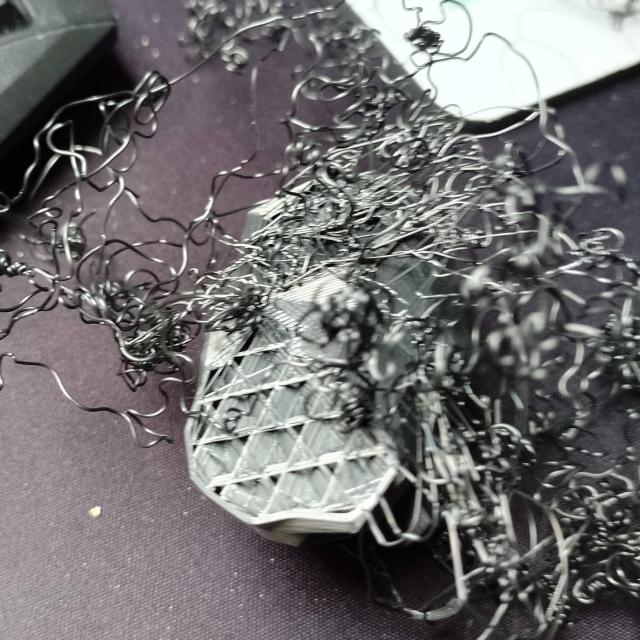Spaghetti: (0, 4, 640, 603)
